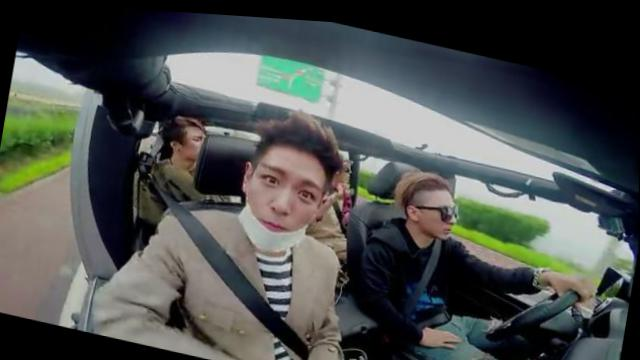NONE: (414, 185, 462, 238), (182, 127, 209, 161)
WRONG: (233, 150, 331, 252)
